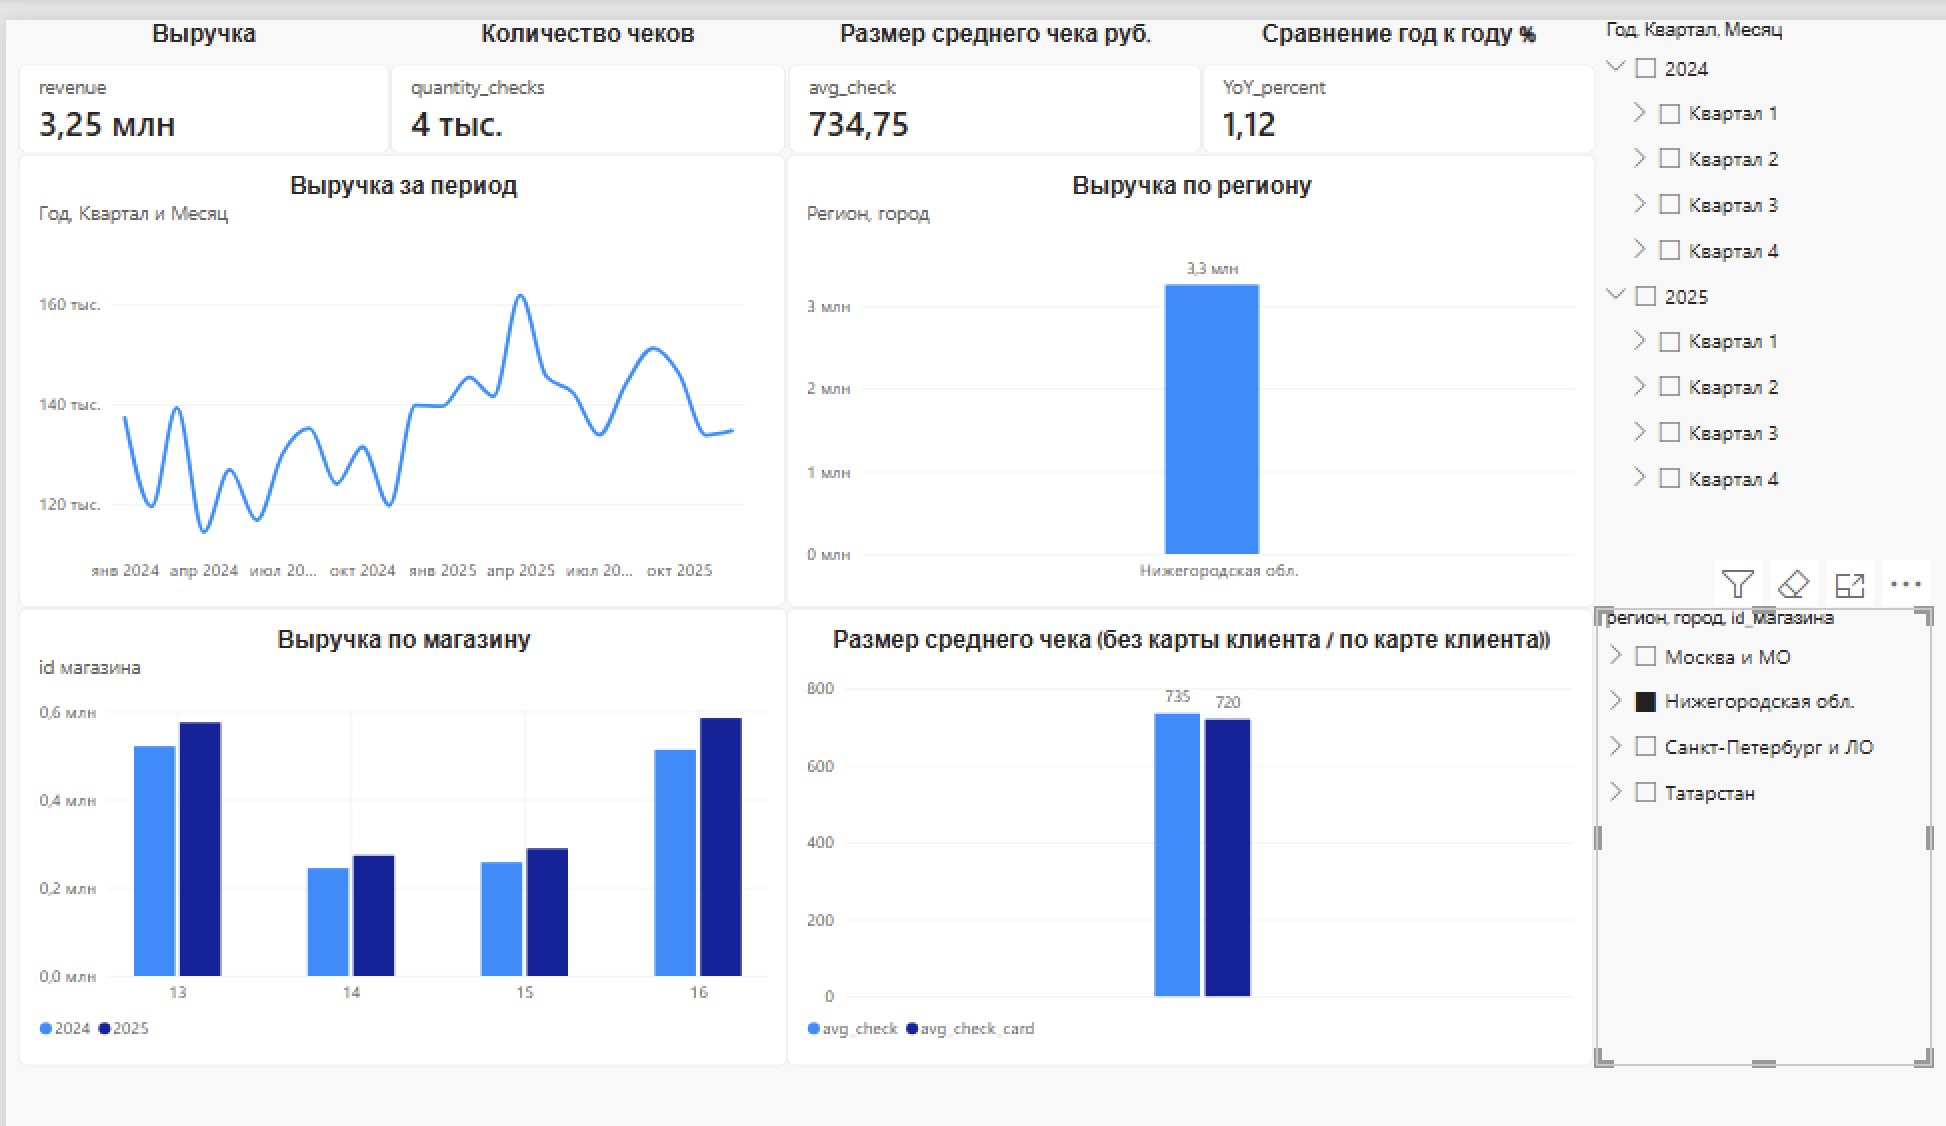

The dashboard page shown, as its layout file describes it:
{"tool":"powerbi","page":{"name":"Sales Sosedushka","canvas":[1920,1080],"ordinal":0},"visuals":[{"type":"cardVisual","title":"Выручка","fields":{"Data":["fact_sales.revenue"]},"box":[10,0,310,111.7],"z":0},{"type":"cardVisual","title":"Количество чеков","fields":{"Data":["fact_sales.quantity_checks"]},"box":[320,0,330,111.7],"z":1},{"type":"cardVisual","title":"Размер среднего чека руб.","fields":{"Data":["fact_sales.avg_check"]},"box":[651.7,0,345,111.7],"z":2},{"type":"cardVisual","title":"Сравнение год к году %","fields":{"Data":["fact_sales.YoY_percent"]},"box":[996.7,0,328.3,111.7],"z":3},{"type":"lineChart","title":"Выручка за период","fields":{"Category":["fact_sales.дата_время.Изменение.Иерархия дат.Год","fact_sales.дата_время.Изменение.Иерархия дат.Квартал","fact_sales.дата_время.Изменение.Иерархия дат.Месяц"],"Y":["fact_sales.revenue"]},"box":[10,111.7,640,378.3],"z":4},{"type":"clusteredColumnChart","title":"Выручка по магазину","fields":{"Category":["fact_sales.id_магазина"],"Series":["fact_sales.дата_время.Изменение.Иерархия дат.Год"],"Y":["fact_sales.revenue"]},"box":[10,490,641.7,381.7],"z":5},{"type":"clusteredColumnChart","title":"Размер среднего чека (без карты клиента / по карте клиента))","fields":{"Y":["fact_sales.avg_check","fact_sales.avg_check_card"]},"box":[650,490,673.3,381.7],"z":6},{"type":"clusteredColumnChart","title":"Выручка по региону","fields":{"Category":["dim_stores.регион","dim_stores.город"],"Y":["fact_sales.revenue"]},"box":[650,111.7,675,378.3],"z":7},{"type":"slicer","fields":{"Values":["dim_stores.регион","dim_stores.город","dim_stores.id_магазина"]},"box":[1325,490,280,381.7],"z":8},{"type":"slicer","fields":{"Values":["fact_sales.дата_время.Изменение.Иерархия дат.Год","fact_sales.дата_время.Изменение.Иерархия дат.Квартал","fact_sales.дата_время.Изменение.Иерархия дат.Месяц"]},"box":[1325,0,280,456.7],"z":9}]}

Visuals, with their boxes on the page's 1920x1080 design canvas (x1, y1, x2, y2). These are canvas units, not pixel positions in the 1946x1126 screenshot, which may show the page scaled, cropped or inside an application window:
"Выручка" cardVisual: [10,0,320,112]
"Количество чеков" cardVisual: [320,0,650,112]
"Размер среднего чека руб." cardVisual: [652,0,997,112]
"Сравнение год к году %" cardVisual: [997,0,1325,112]
"Выручка за период" lineChart: [10,112,650,490]
"Выручка по магазину" clusteredColumnChart: [10,490,652,872]
"Размер среднего чека (без карты клиента / по карте клиента))" clusteredColumnChart: [650,490,1323,872]
"Выручка по региону" clusteredColumnChart: [650,112,1325,490]
slicer - dim_stores.регион x dim_stores.город: [1325,490,1605,872]
slicer - fact_sales.дата_время.Изменение.Иерархия дат.Год x fact_sales.дата_время.Изменение.Иерархия дат.Квартал: [1325,0,1605,457]
